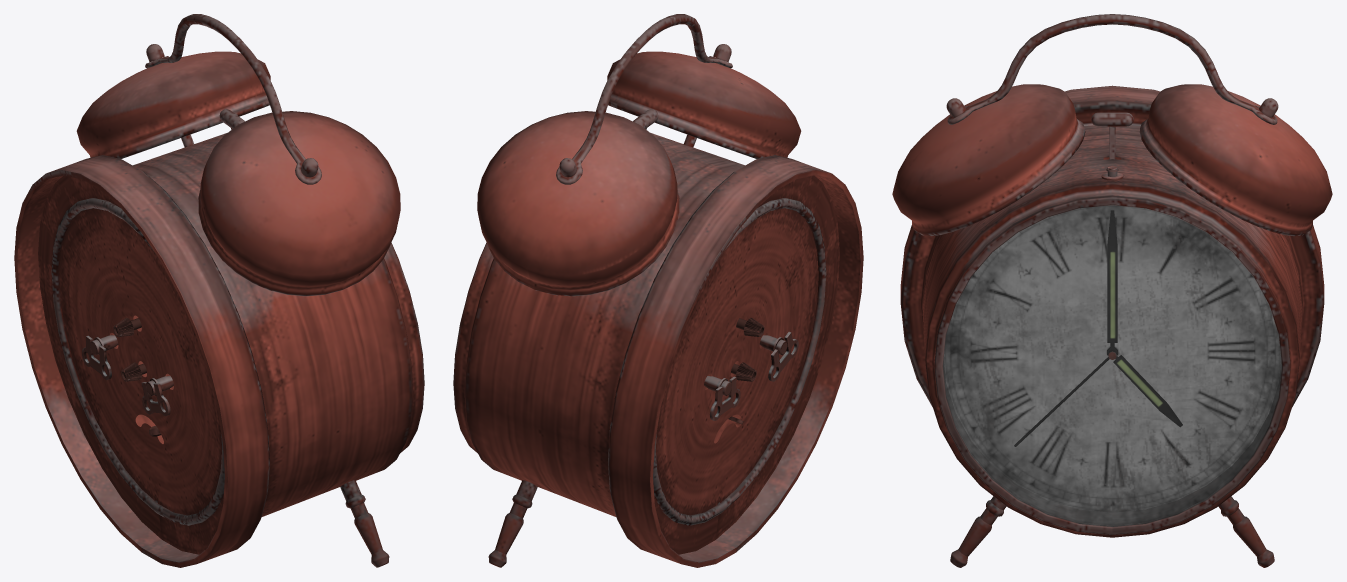
File: bell_alarm_clock.glb
3 renders of one model, left to right at view 1: azimuth 30°, elevation 25°; view 2: azimuth 150°, elevation 25°; view 3: azimuth 270°, elevation 25°, orthographic.
Visible parts, largest first — view 1: bell_alarm_clock; view 2: bell_alarm_clock; view 3: bell_alarm_clock.
Part boxes in pixels (left/top/right/bottom): bell_alarm_clock: left=14, top=14, right=424, bottom=567; bell_alarm_clock: left=453, top=14, right=863, bottom=567; bell_alarm_clock: left=892, top=14, right=1332, bottom=567.
Bounding box in the file's own units: 0.0526 × 0.101 × 0.0785.
1 material, 1 textured.
